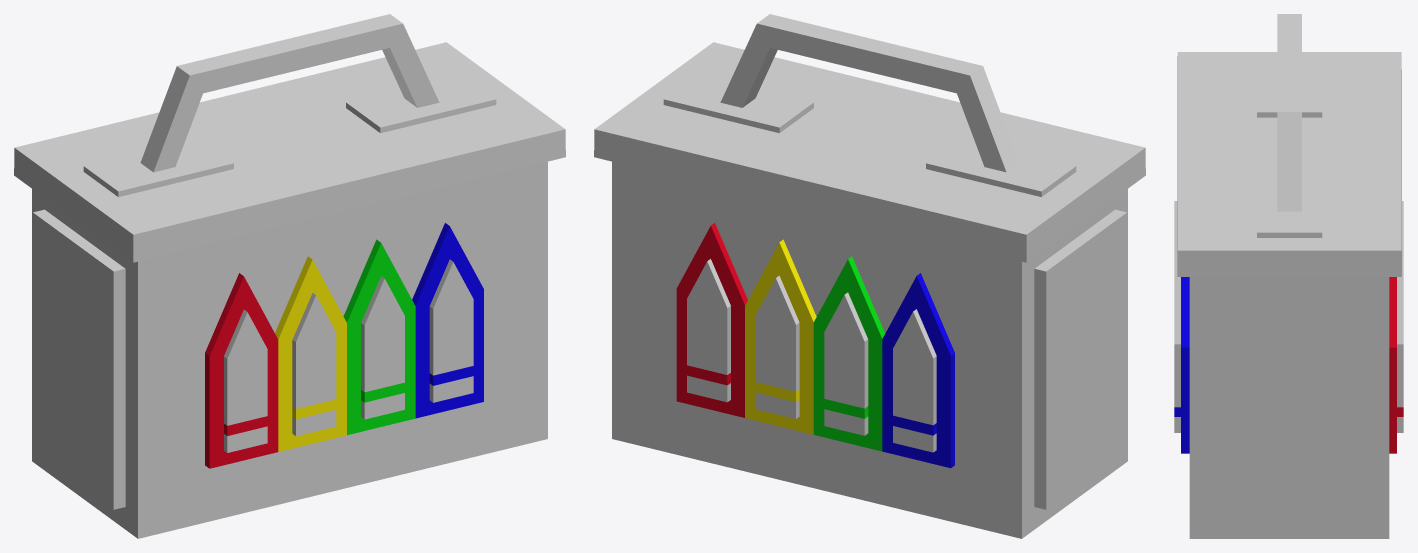
Rendered from AmmoBox.fbx.
The picture shows the model from 3 angles, left to right: view 1: azimuth 30°, elevation 25°; view 2: azimuth 150°, elevation 25°; view 3: azimuth 270°, elevation 25°; orthographic projection. The views are drawn at different scales.
Visible parts, largest first — view 1: Cube; view 2: Cube; view 3: Cube.
Boxes of the visible parts, x1,y1,x2,y2 form: Cube: [14, 14, 565, 538]; Cube: [594, 14, 1145, 538]; Cube: [1174, 14, 1403, 538].
Bounding box in the file's own units: 211 × 189 × 103.
